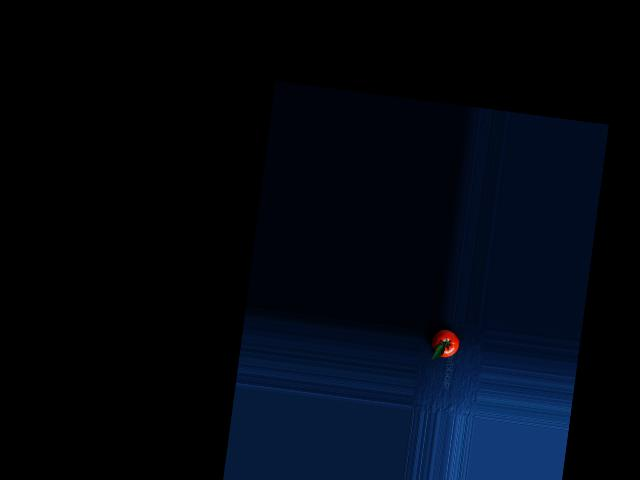tomato: (430, 328, 460, 359)
